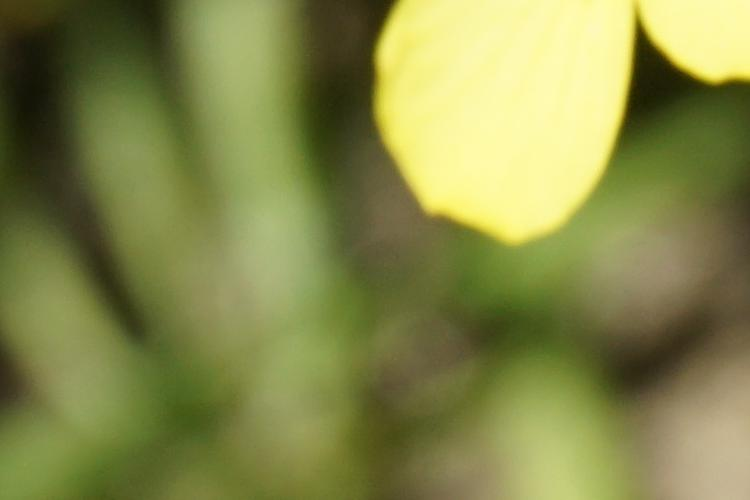yellow: (371, 19, 734, 256)
